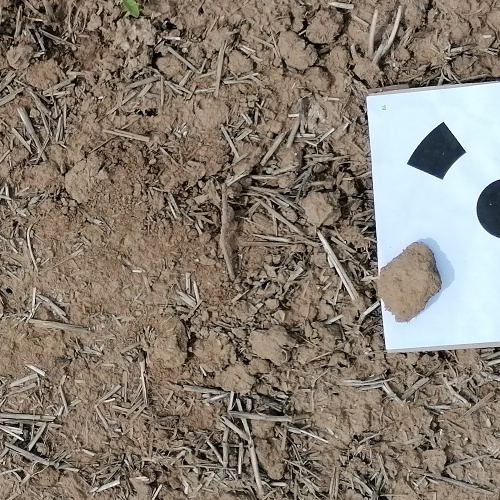beet: (116, 0, 141, 17)
